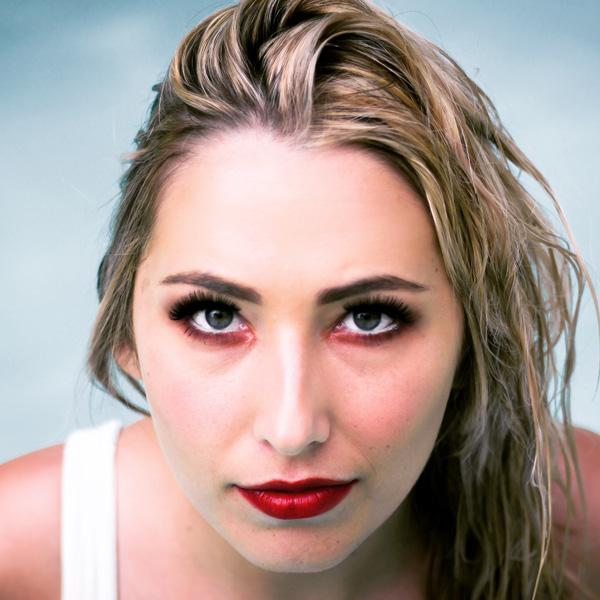Eyes: (165, 288, 259, 354), (324, 294, 422, 354)
